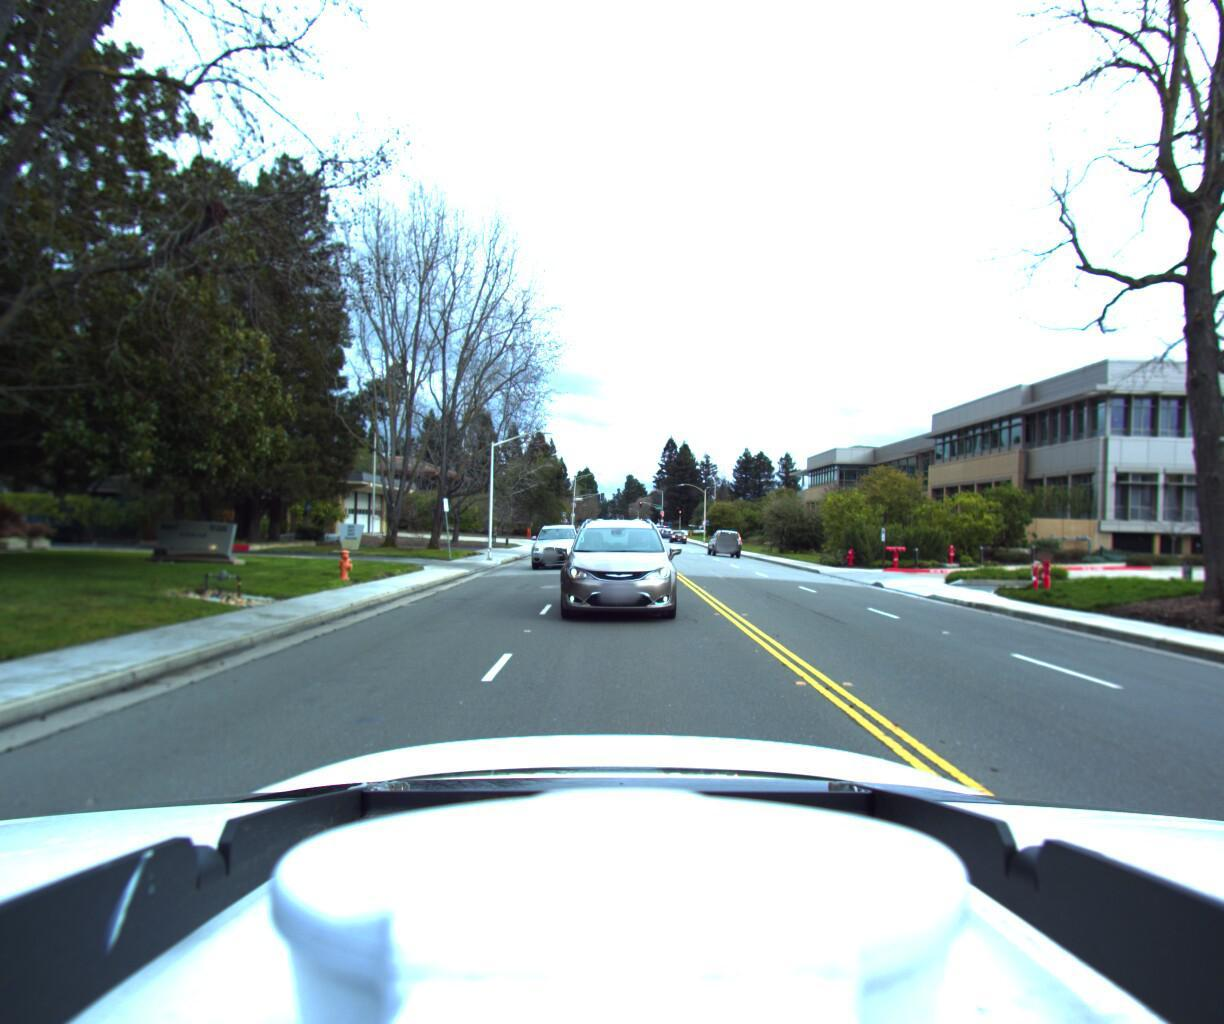car: (539, 508, 687, 631), (526, 522, 584, 570), (703, 528, 741, 557)
